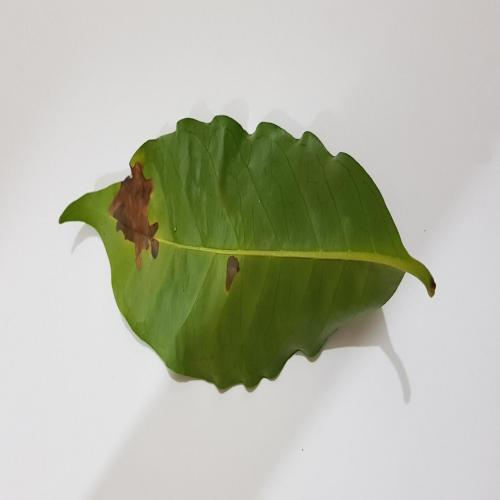leaf: (109, 162, 160, 268)
